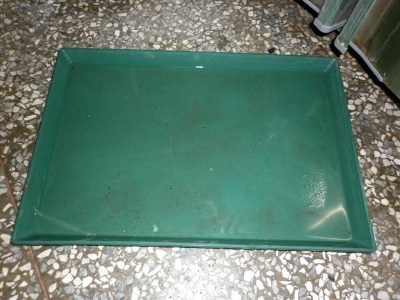plate: (9, 47, 377, 253)
